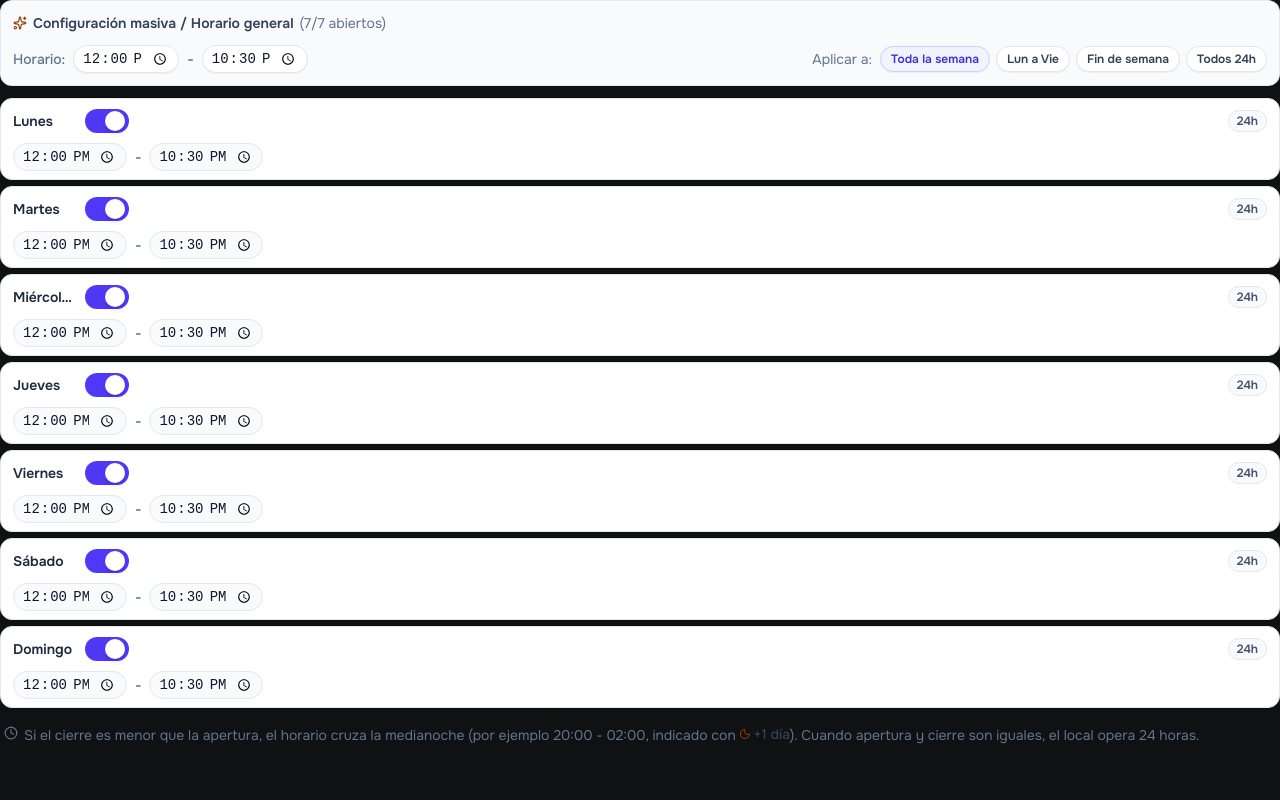
it: WeeklyScheduleEditor › displays overnight indicator when bulk hours cross midnight
The width and height of the screenshot is (1280, 800).
Replace the text in the time field named "Horario masivo apertura" with "20:00" at (126, 59), box [73,45,179,73]
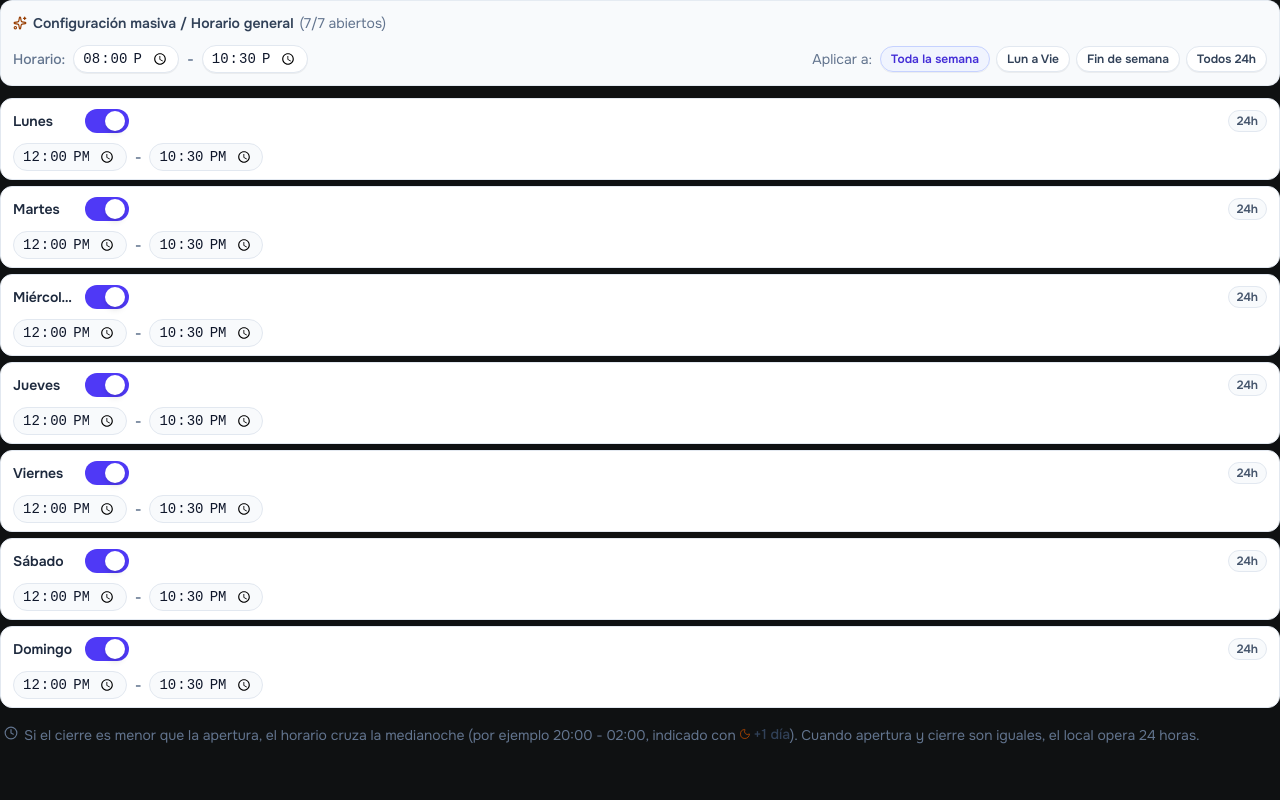
Replace the text in the time field named "Horario masivo cierre" with "03:00" at (255, 59), box [202,45,308,73]
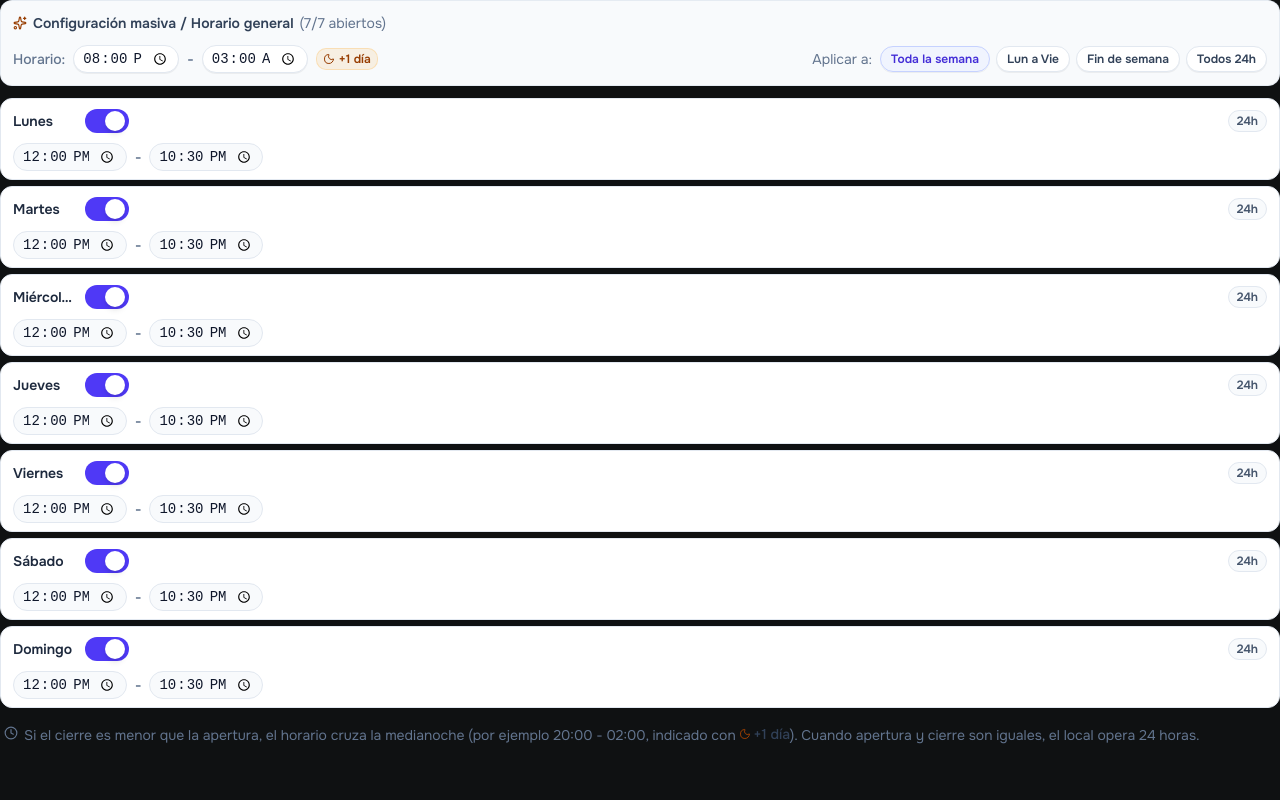
Now the text "+1 día" in the row of "Horario:" is shown, box [339,51,371,67]
